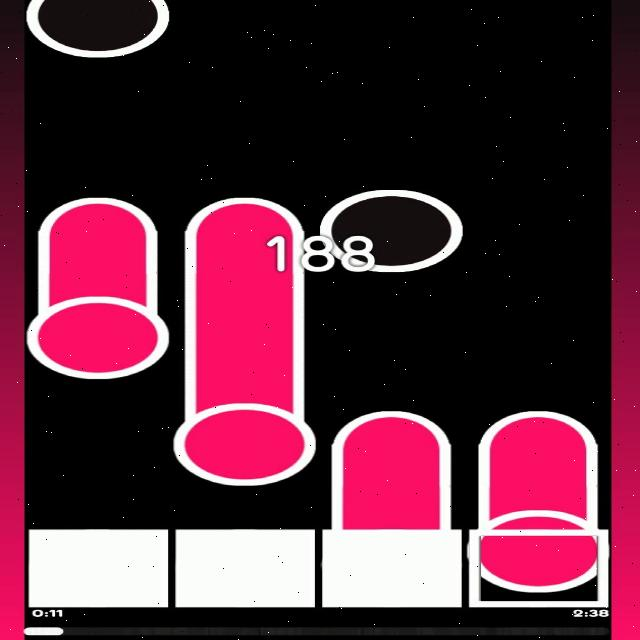end_hold: (472, 389, 602, 459), (34, 175, 163, 245), (329, 390, 453, 458), (182, 178, 304, 243)
note: (324, 186, 464, 272), (25, 0, 172, 59)
start_hold: (26, 279, 169, 380), (172, 393, 317, 486), (473, 488, 603, 586)
